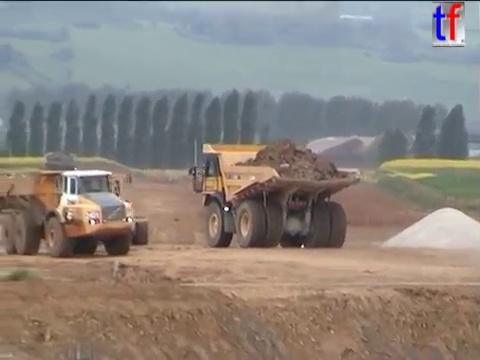motor grader: (61, 169, 150, 249)
truck: (187, 142, 363, 248), (1, 167, 135, 259), (40, 148, 81, 181)
